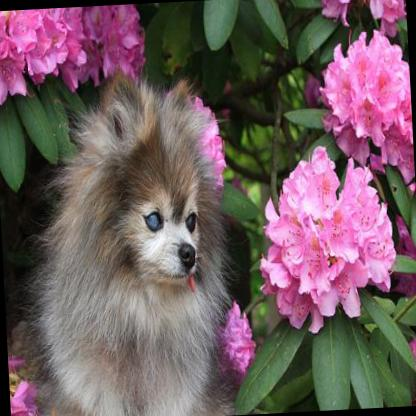Pomeranian: (15, 58, 242, 416)
